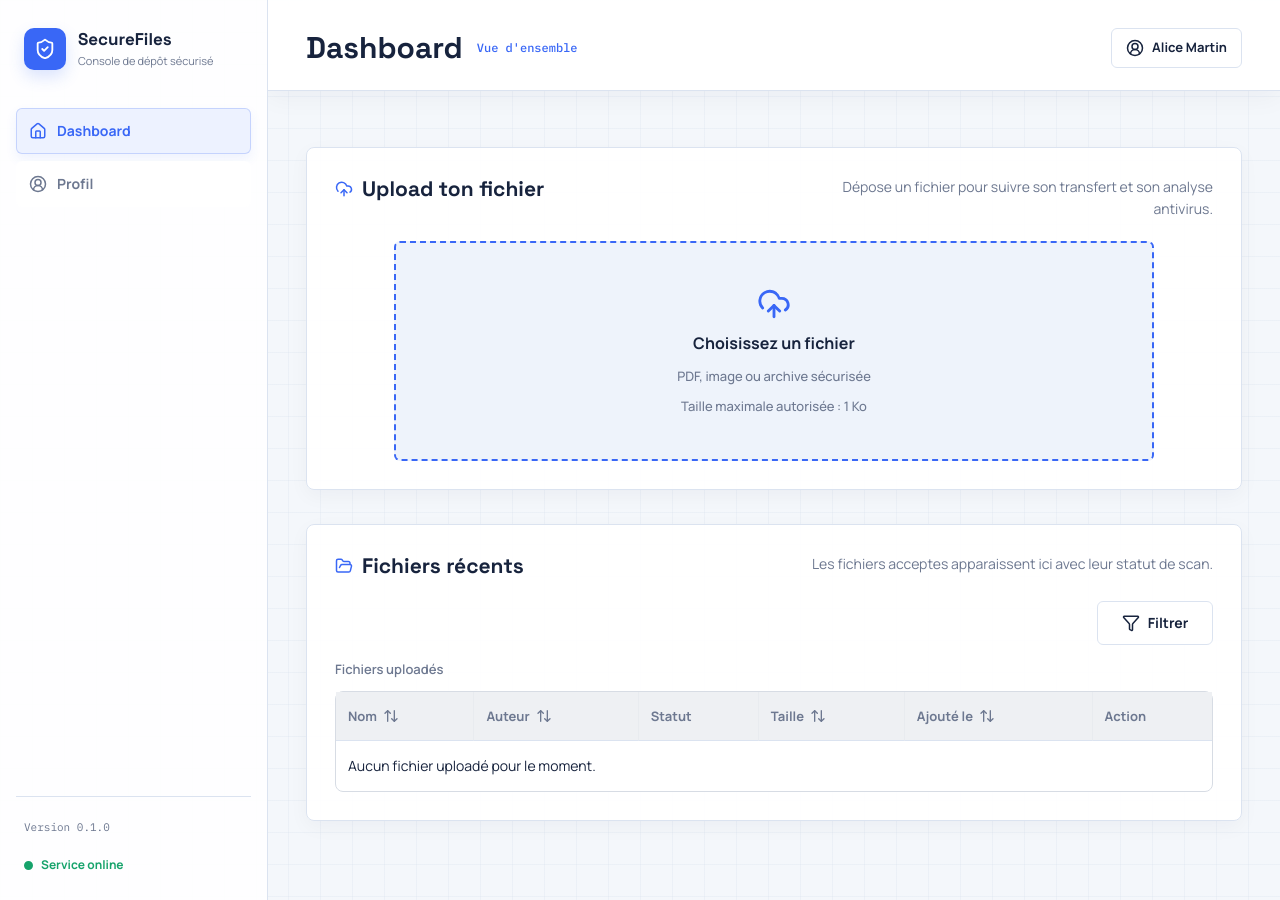
Test: App › logs out through the backend and clears the account state
Hover over the button "Alice Martin": x=1177, y=48 top-left (1111, 28), bottom-right (1242, 68)
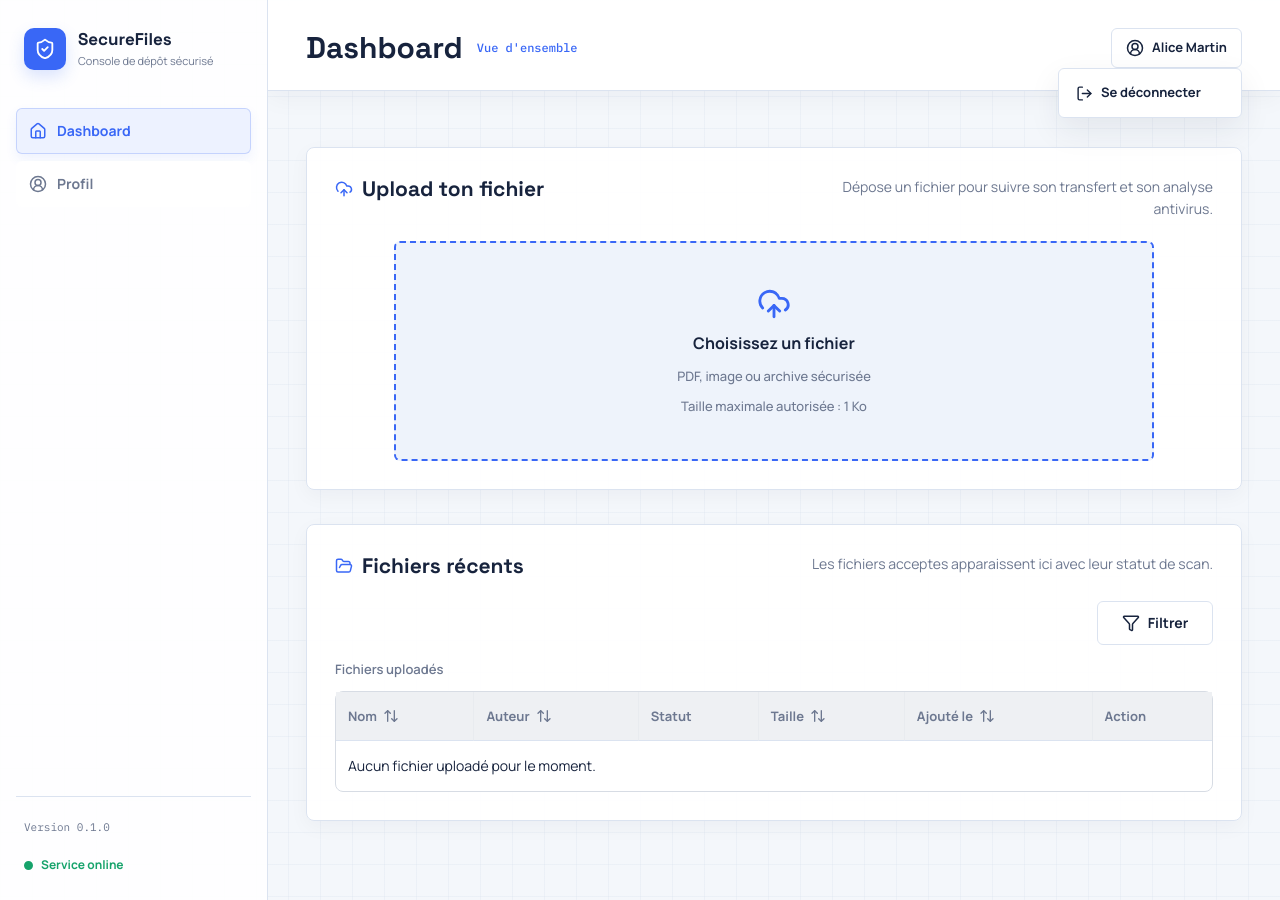
Click the menu item "Se déconnecter": x=1150, y=93 top-left (1065, 75), bottom-right (1235, 111)
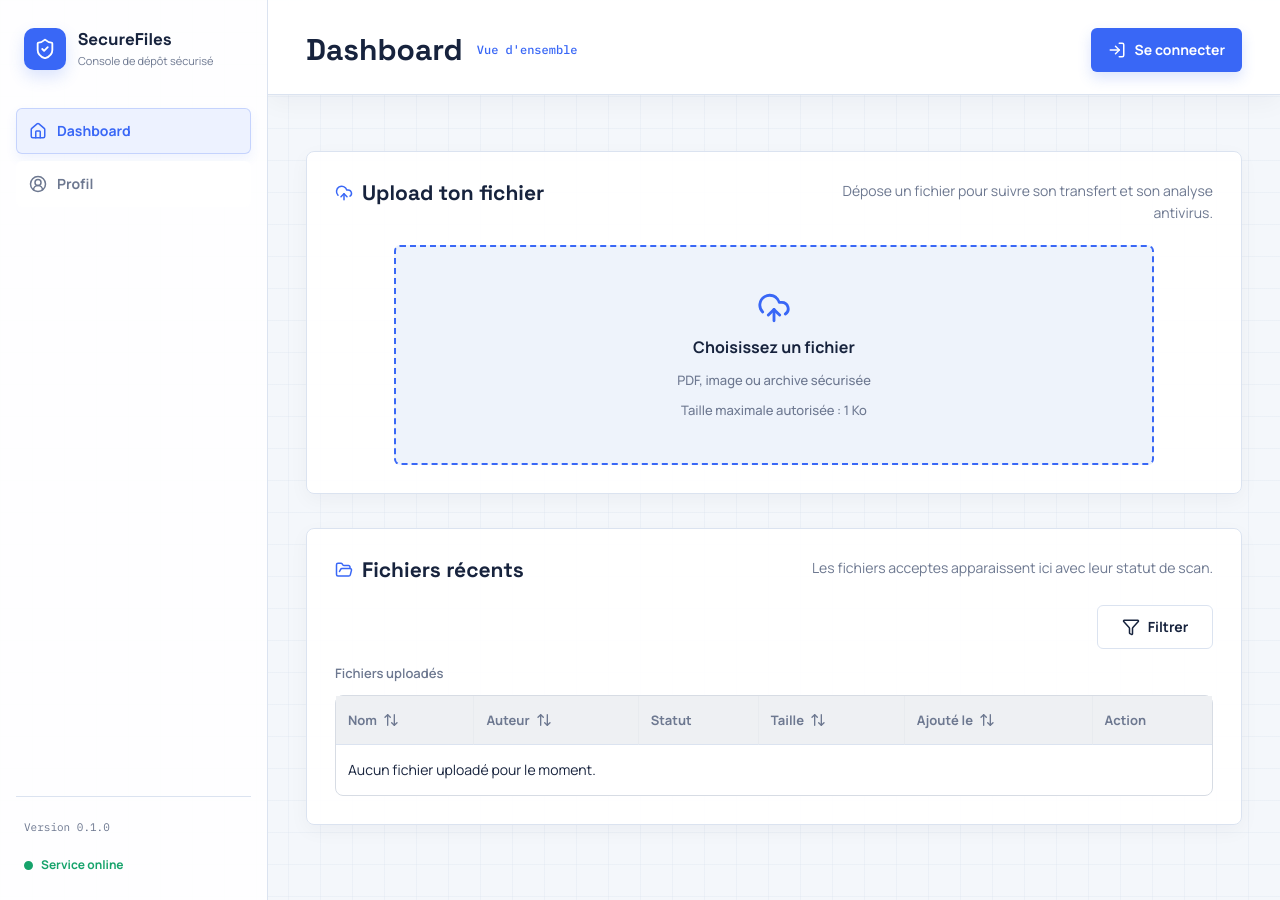
Check: the button "Se connecter" is shown, box top-left (1092, 28), bottom-right (1242, 72)
